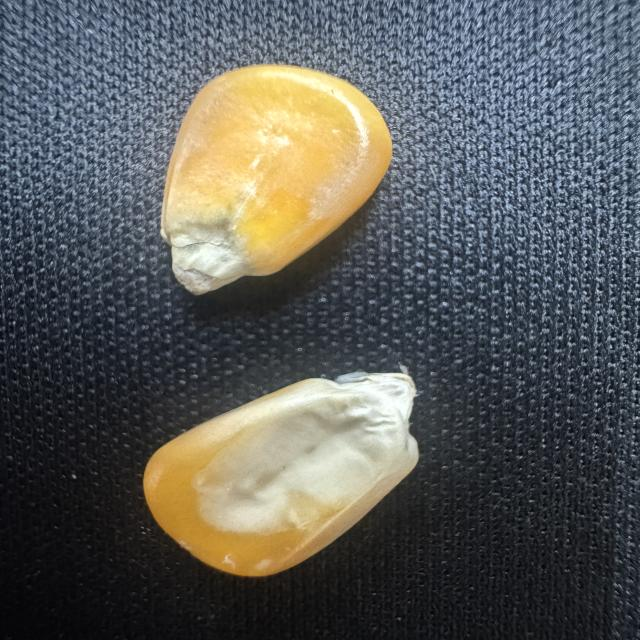Good-Seed: (128, 358, 424, 580), (149, 58, 399, 308)
